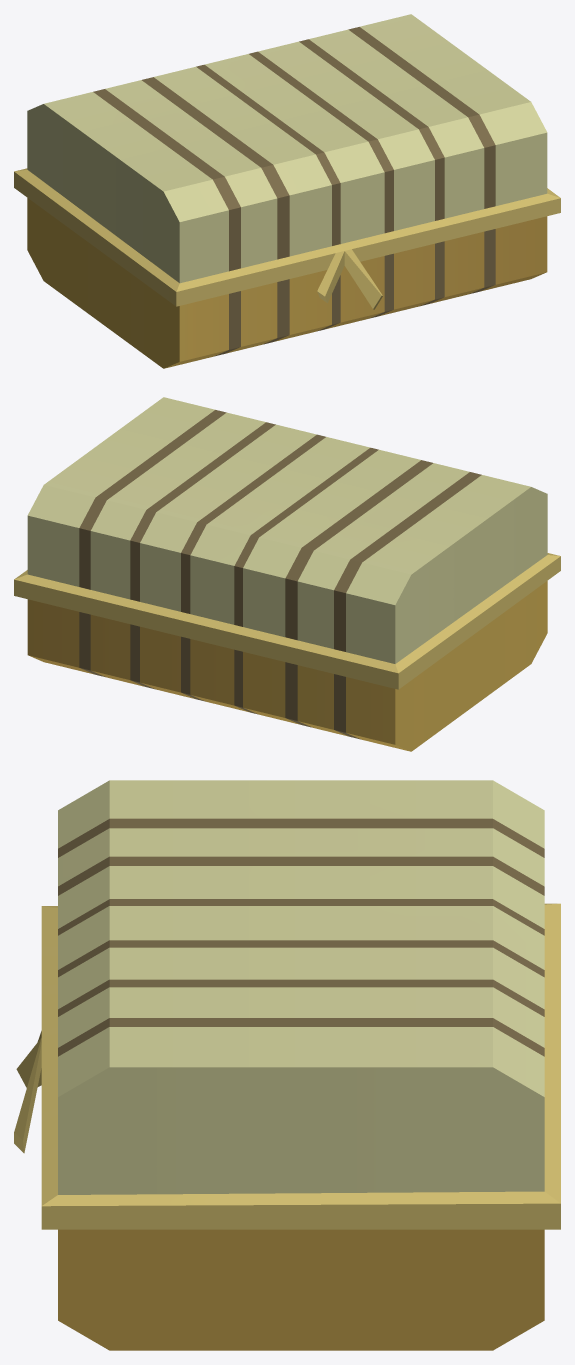
The model's file is SM_MarketBoxes_04.fbx.
The picture shows the model from 3 angles, top to bottom: view 1: azimuth 30°, elevation 25°; view 2: azimuth 150°, elevation 25°; view 3: azimuth 270°, elevation 25°; orthographic projection. The views are drawn at different scales.
Visible parts, largest first — view 1: Cube.048; view 2: Cube.048; view 3: Cube.048.
Boxes of the visible parts, left/top/right/bottom form: Cube.048: left=14, top=14, right=560, bottom=368; Cube.048: left=14, top=397, right=560, bottom=751; Cube.048: left=14, top=780, right=560, bottom=1350.
Size of the model in its own units: 112 by 49.26 by 86.17.
